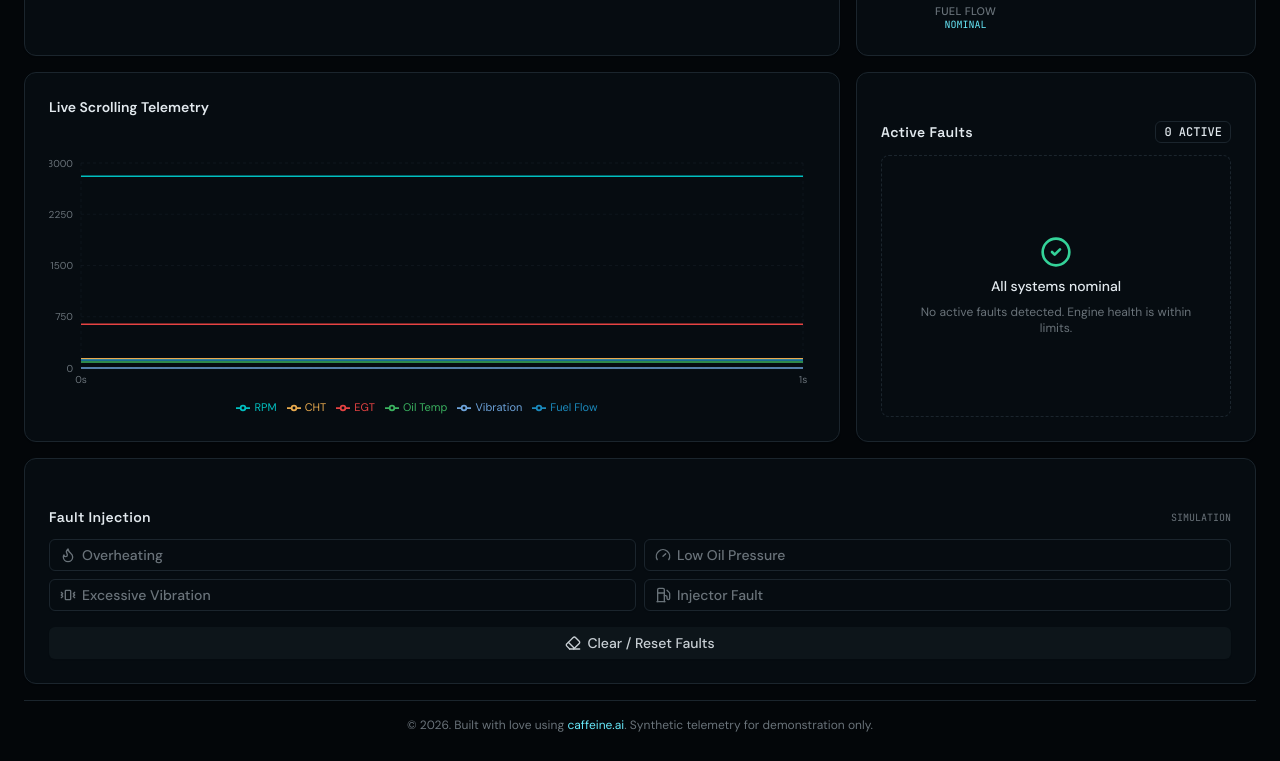
Scenario: DashboardPage › injecting the Overheating fault raises CHT, lowers health and RUL, and raises an alert with a maintenance recommendation
The image size is (1280, 761).
(page scrolled)
Click the button with test id "fault_injector.overheating". click: (122, 555)
box: left=49, top=539, right=636, bottom=571
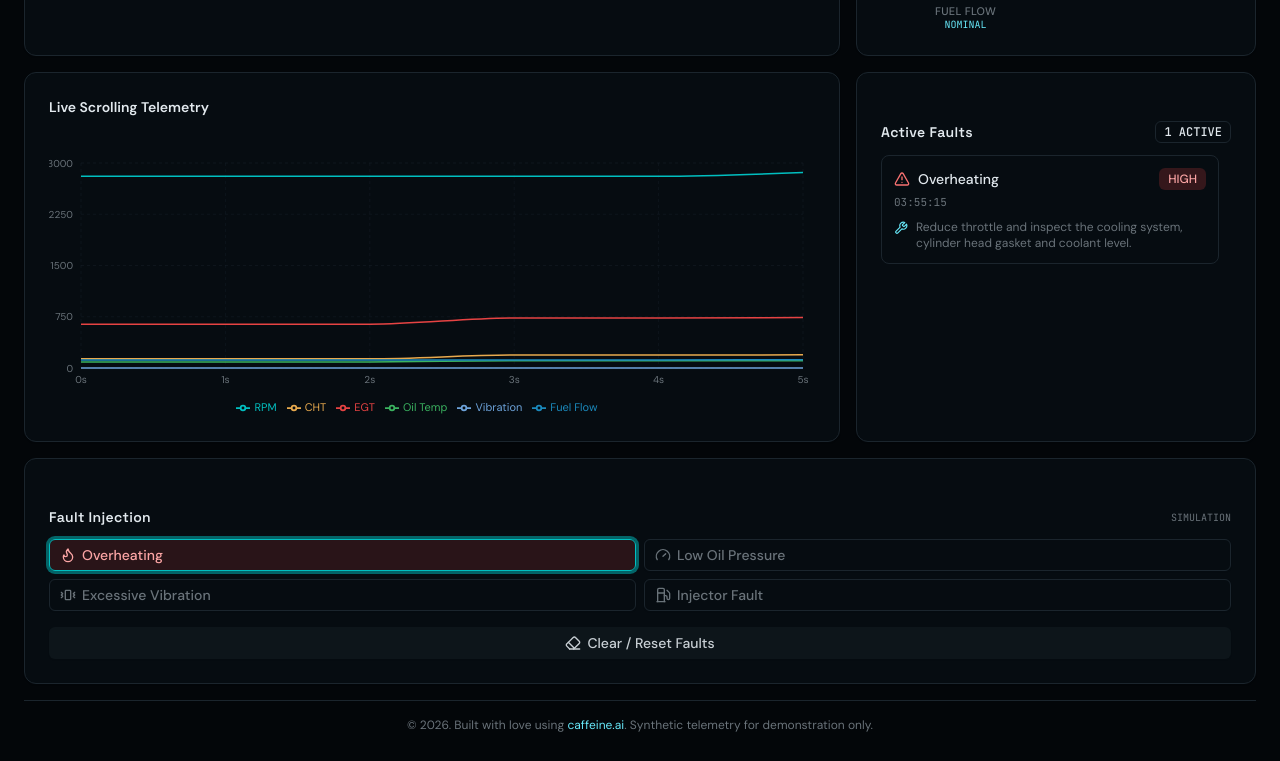
Expected: the text "Overheating" is shown, left=918, top=169, right=999, bottom=189
Expected: the text "Reduce throttle and inspect the cooling system" is shown, left=916, top=218, right=1183, bottom=250
